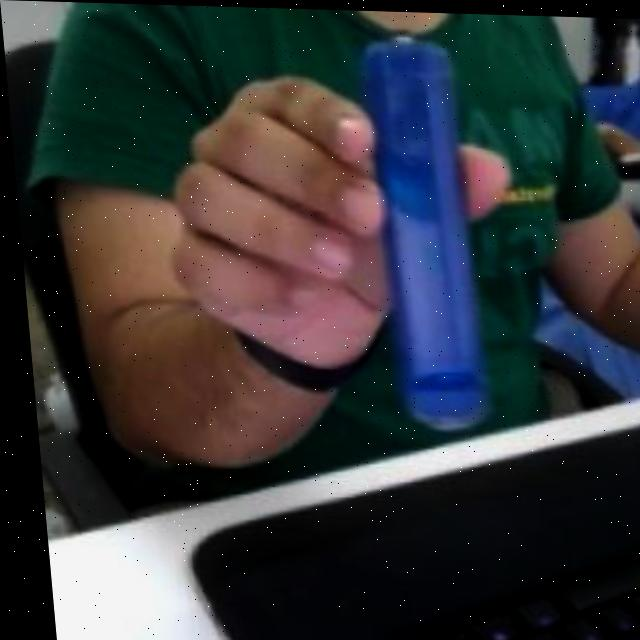vape: (361, 35, 484, 426)
